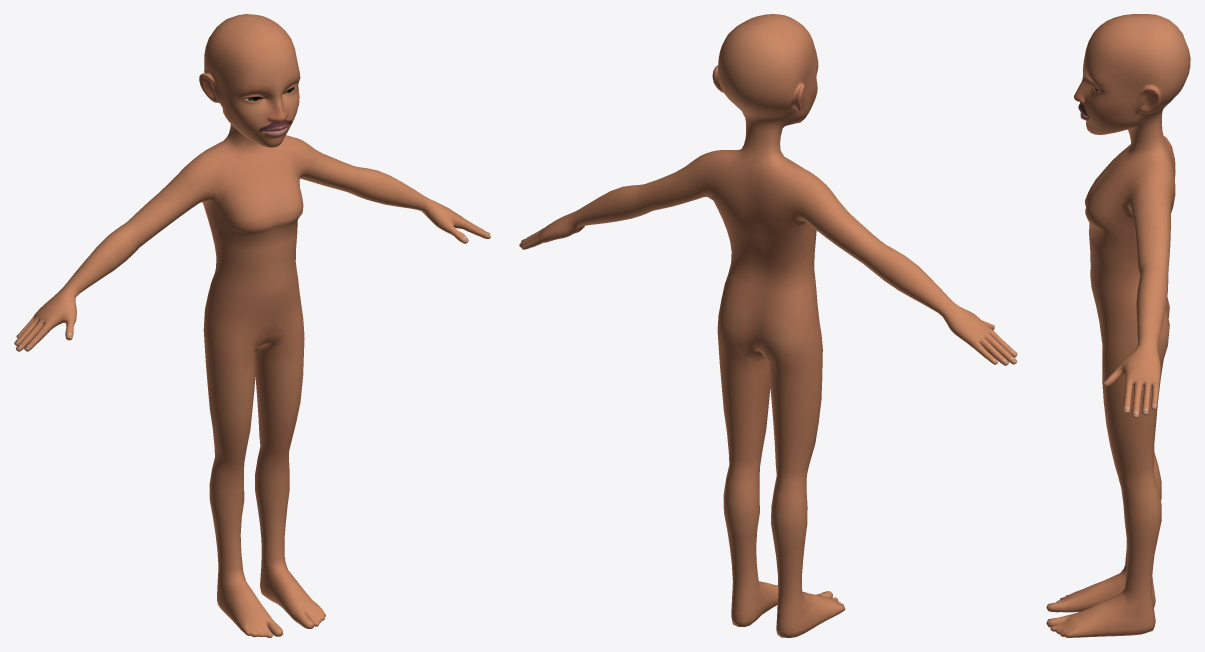
File: frame_0094.glb
3 views of the same model, side by side, from view 1: azimuth 30°, elevation 25°; view 2: azimuth 150°, elevation 25°; view 3: azimuth 270°, elevation 25° (orthographic). The views are drawn at different scales.
Parts seen in each view (by area): view 1: frame_0094_head_geo; view 2: frame_0094_head_geo; view 3: frame_0094_head_geo.
Part boxes in pixels (x1,y1,x2,y2): frame_0094_head_geo: (14, 14, 490, 637); frame_0094_head_geo: (519, 14, 1017, 637); frame_0094_head_geo: (1046, 14, 1190, 637).
Size of the model in its own units: 1.28 by 1.5 by 0.3253.
3 materials, 3 textured.
